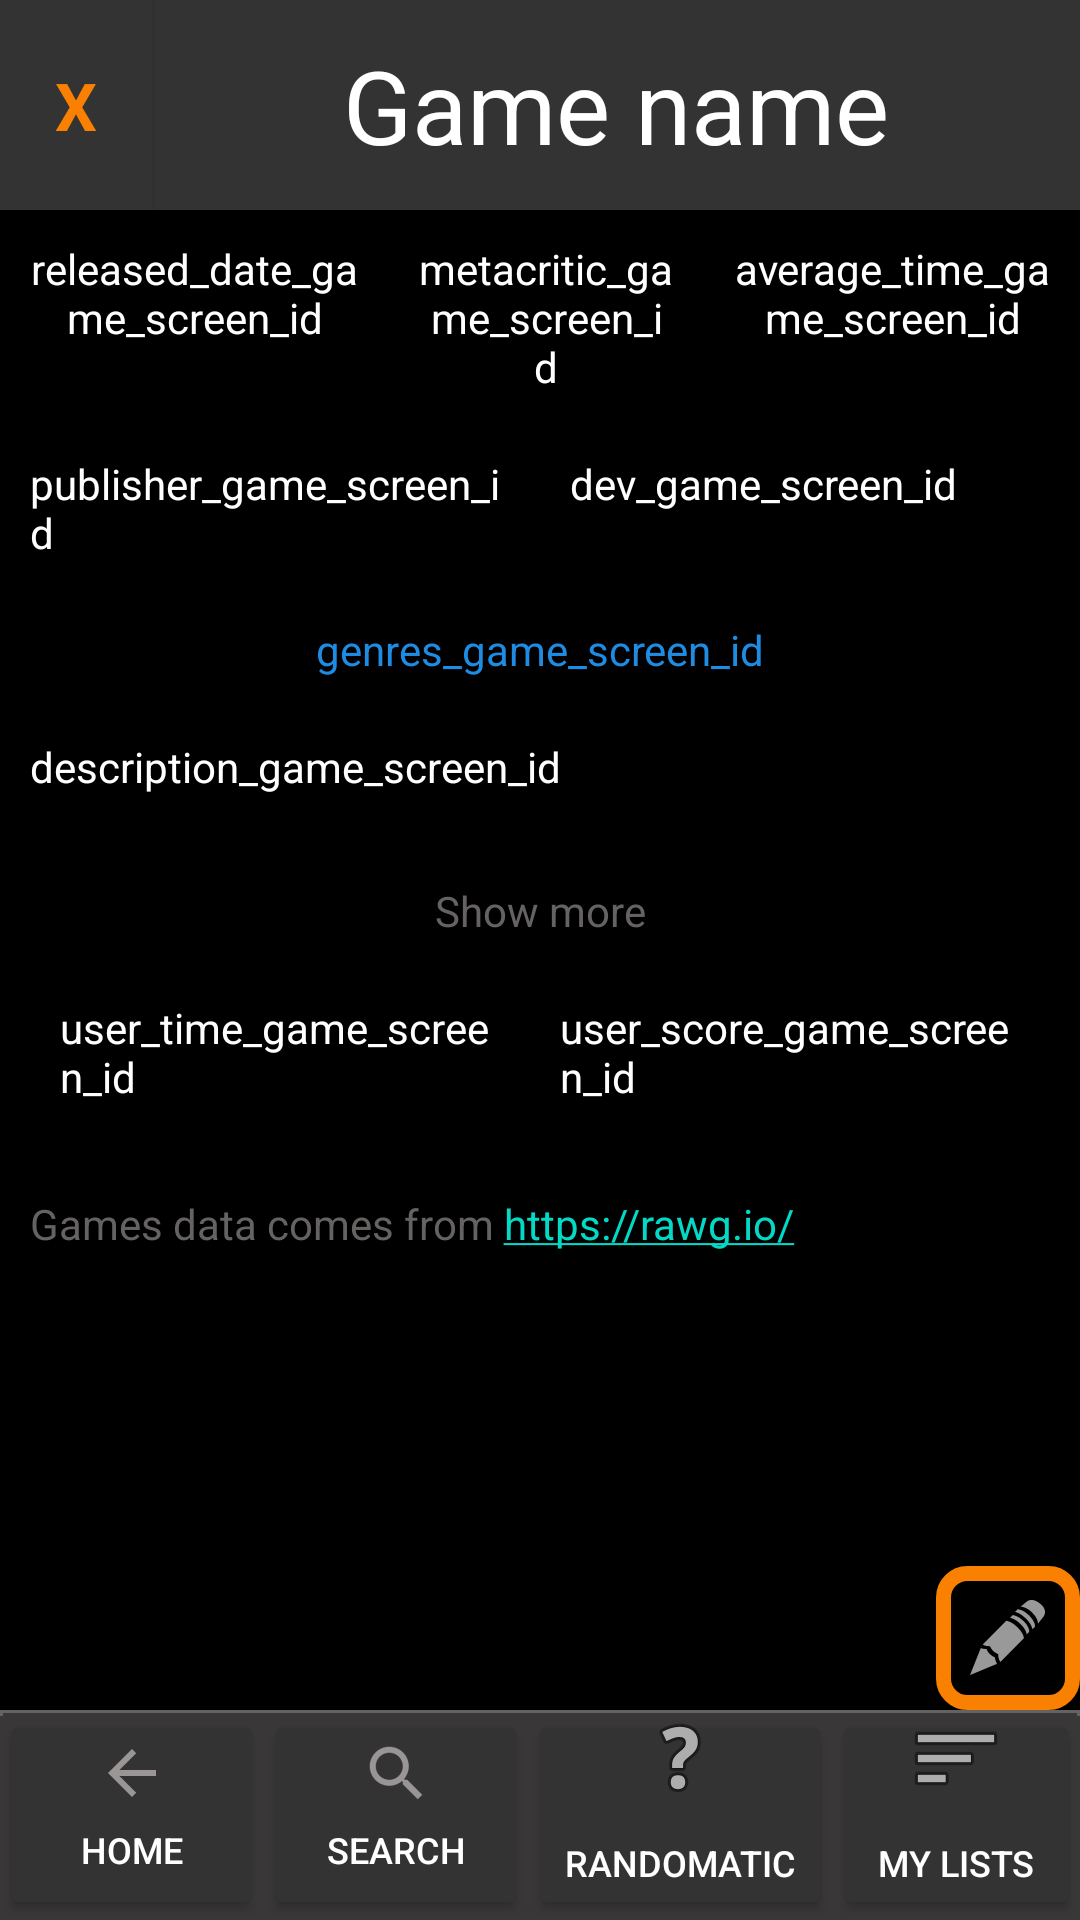

Locate icon controls on the screen. Image size 1080px x 1920px, boxes as box(x1, y1, x2, y2).
edit: box(936, 1566, 1080, 1710)
